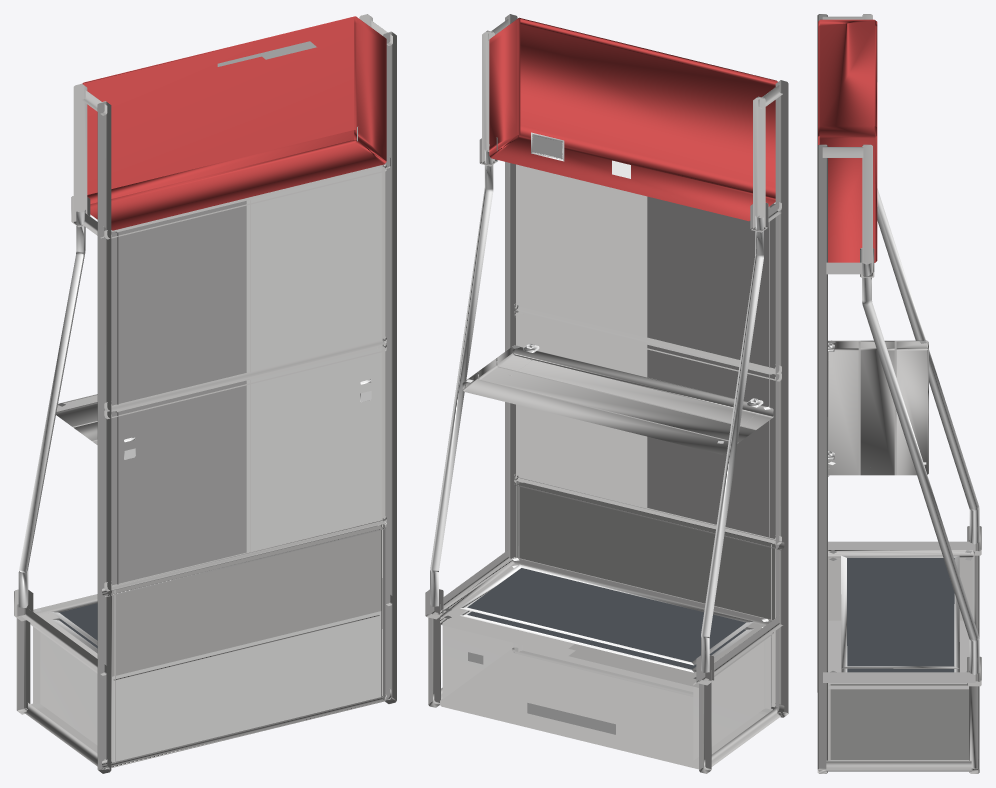
The model's file is rack_clothing_2_02x01x045_d.glb.
3 renders of one model, left to right at view 1: azimuth 30°, elevation 25°; view 2: azimuth 150°, elevation 25°; view 3: azimuth 270°, elevation 25°, orthographic. The views are drawn at different scales.
Size of the model in its own units: 1.6 by 3.42 by 0.8127.
